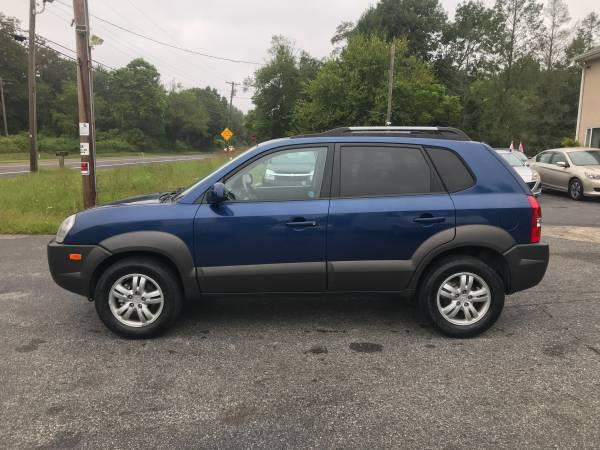Front_Bumper: (46, 240, 110, 300)
Front_Fender: (63, 202, 202, 296)
Front_Left_Door: (194, 197, 328, 292)
Front_Left_Window: (198, 143, 336, 201)
Left_Headlight: (52, 211, 76, 242)
Left_Taillight: (525, 194, 541, 243)
Rear_Bumper: (505, 242, 549, 291)
Rear_Fender: (421, 144, 531, 250)
Rear_Left_Door: (327, 194, 454, 295)
Rear_Left_Window: (330, 142, 450, 198)
Roof: (177, 133, 532, 203)
Wheel: (423, 256, 509, 339), (92, 259, 179, 340)
